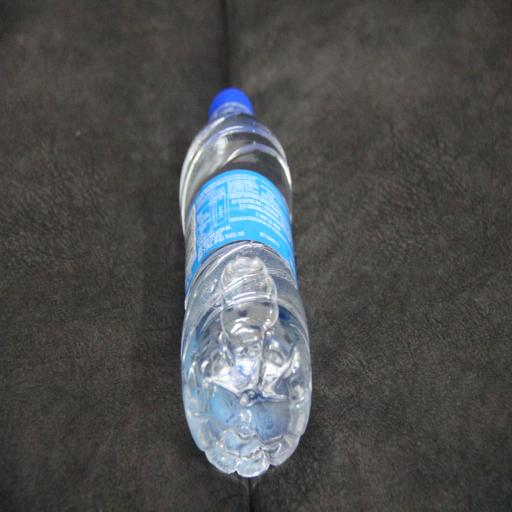Aquafina: (179, 88, 312, 478)
